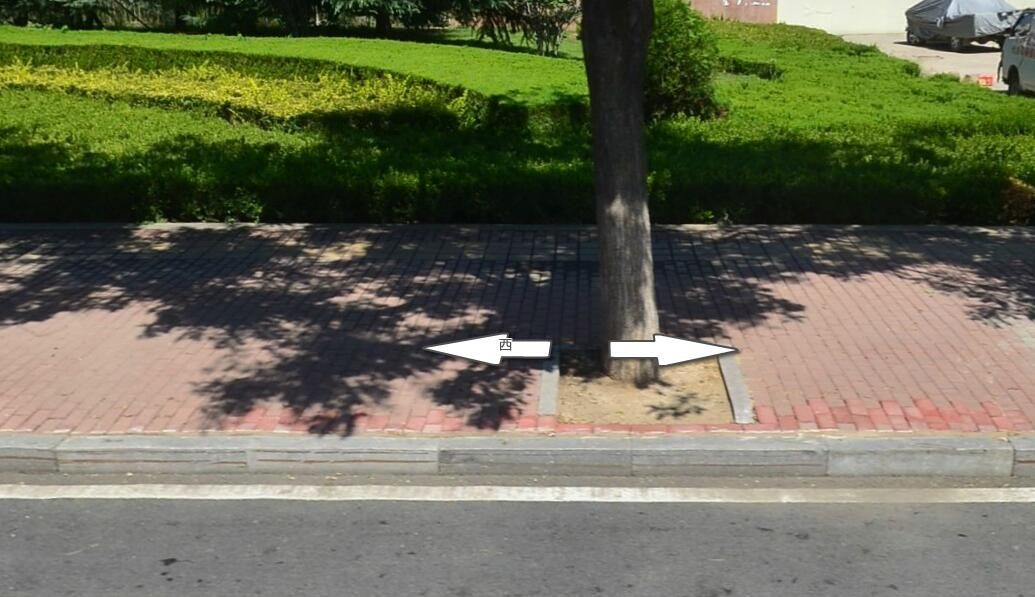side: (245, 434, 443, 477), (631, 436, 829, 478), (829, 436, 1017, 480), (439, 436, 632, 476), (56, 434, 247, 474)
